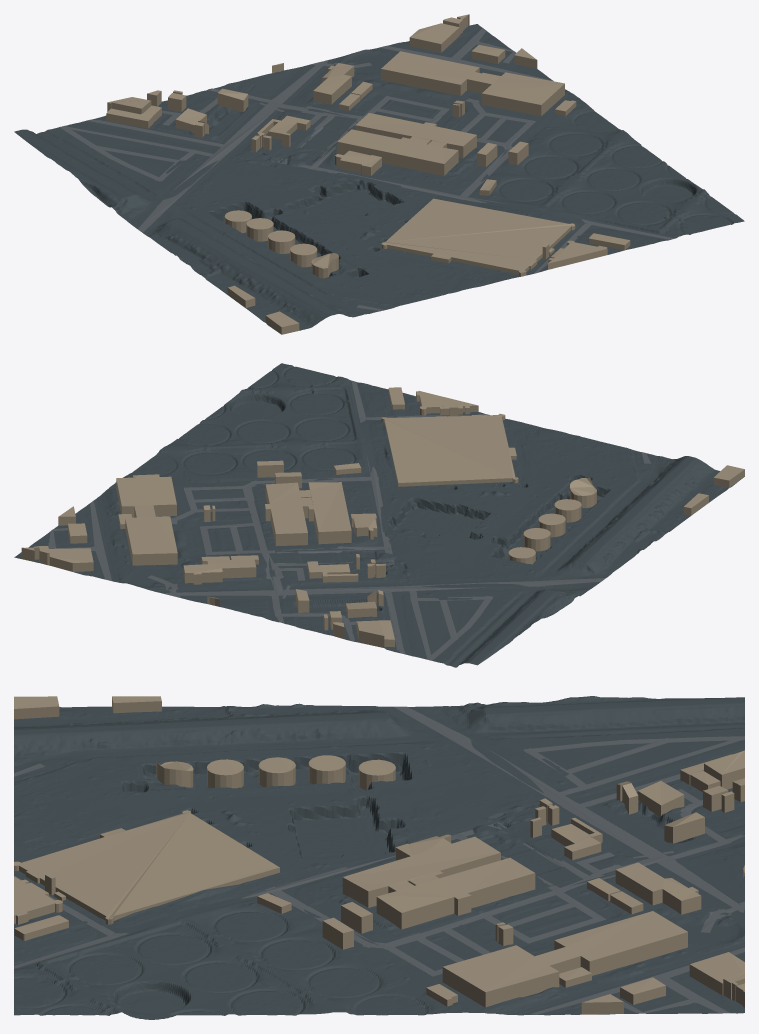
File: epsg26910-1441-10878.lod0.glb
3 renders of one model, top to bottom at view 1: azimuth 30°, elevation 25°; view 2: azimuth 150°, elevation 25°; view 3: azimuth 270°, elevation 25°, orthographic. The views are drawn at different scales.
Parts seen in each view (by area): view 1: epsg26910-1441-10878-lod0; view 2: epsg26910-1441-10878-lod0; view 3: epsg26910-1441-10878-lod0.
Boxes of the visible parts, x1,y1,x2,y2 form: epsg26910-1441-10878-lod0: [14, 14, 744, 334]; epsg26910-1441-10878-lod0: [14, 363, 744, 667]; epsg26910-1441-10878-lod0: [14, 696, 744, 1019].
Size of the model in its own units: 384 by 21.96 by 384.
